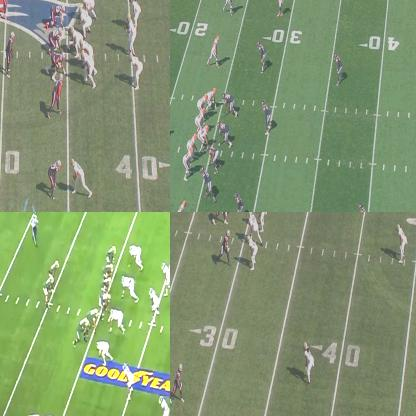CENTER: (68, 28, 79, 55), (199, 124, 211, 148), (100, 294, 112, 309)
DB: (50, 159, 62, 198), (305, 346, 314, 384), (246, 236, 256, 270), (398, 223, 406, 263), (336, 52, 344, 84), (260, 41, 267, 73), (276, 0, 285, 19), (160, 399, 169, 415), (357, 201, 370, 211)
LB: (51, 73, 62, 120), (4, 29, 14, 75), (130, 54, 142, 89), (123, 365, 134, 398), (149, 288, 160, 320), (261, 103, 272, 133), (161, 261, 169, 297), (1, 0, 13, 22), (256, 212, 266, 230), (234, 194, 244, 211)
QB: (44, 276, 54, 306), (128, 15, 136, 50)
SKILL: (69, 157, 88, 193), (171, 363, 184, 403), (219, 229, 231, 262), (209, 36, 221, 67), (129, 0, 138, 28), (106, 246, 118, 264), (174, 197, 188, 211), (209, 86, 221, 102), (49, 260, 60, 276), (215, 212, 229, 224), (225, 0, 236, 13)
